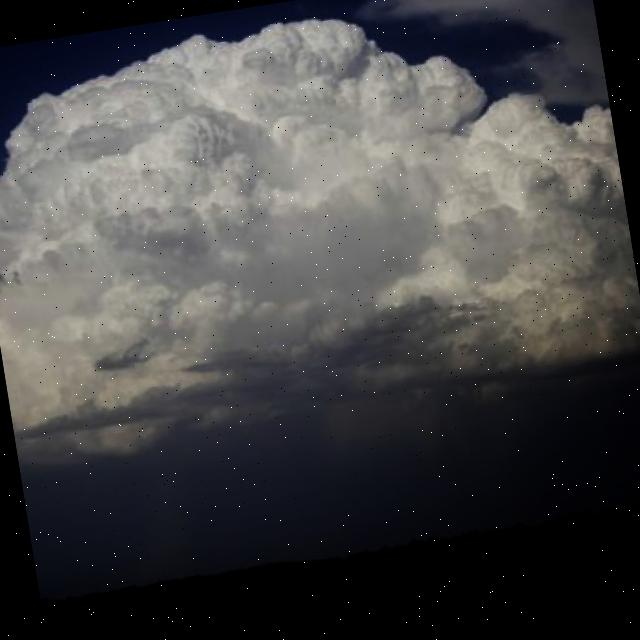Cb: (1, 1, 640, 502)
